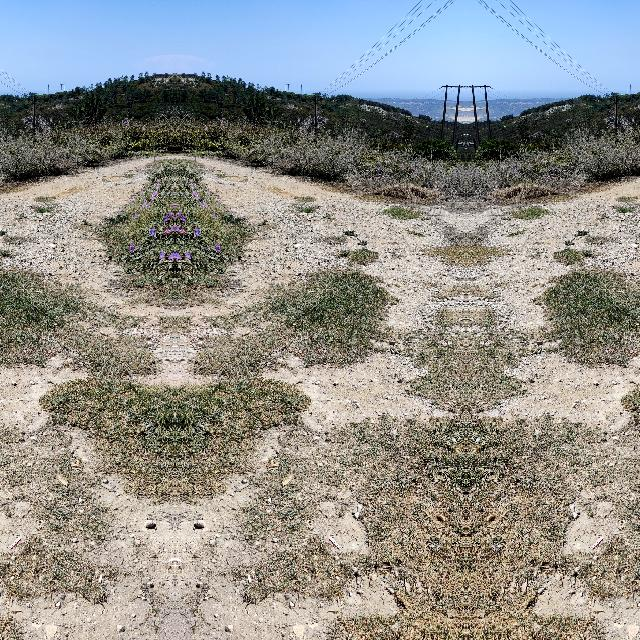Plastic: (291, 242, 301, 248), (47, 242, 57, 248), (630, 242, 640, 248)
